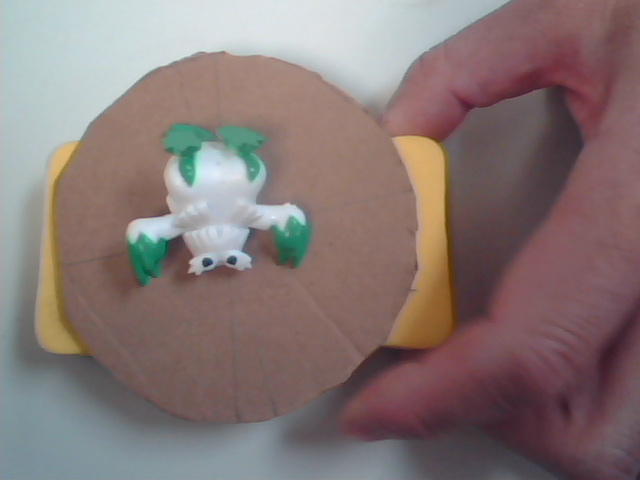abomasnow: (97, 136, 329, 362)
